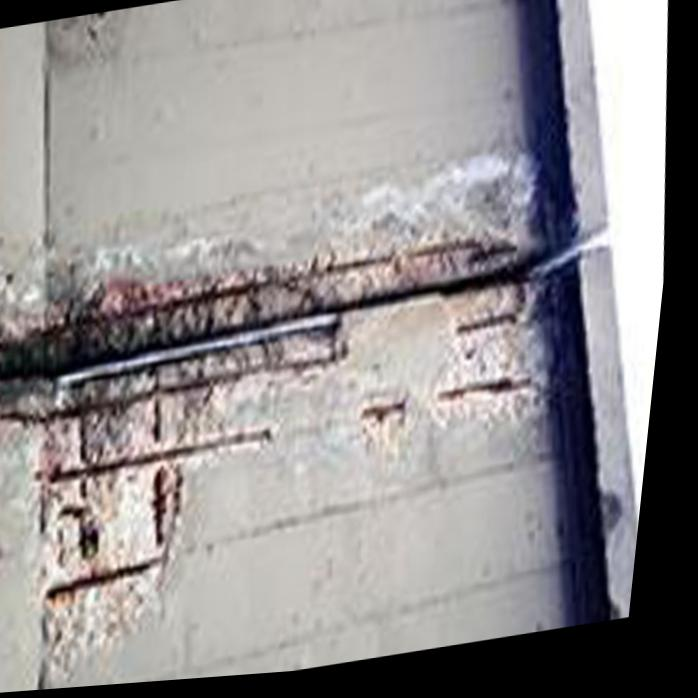damage: (0, 161, 548, 680)
